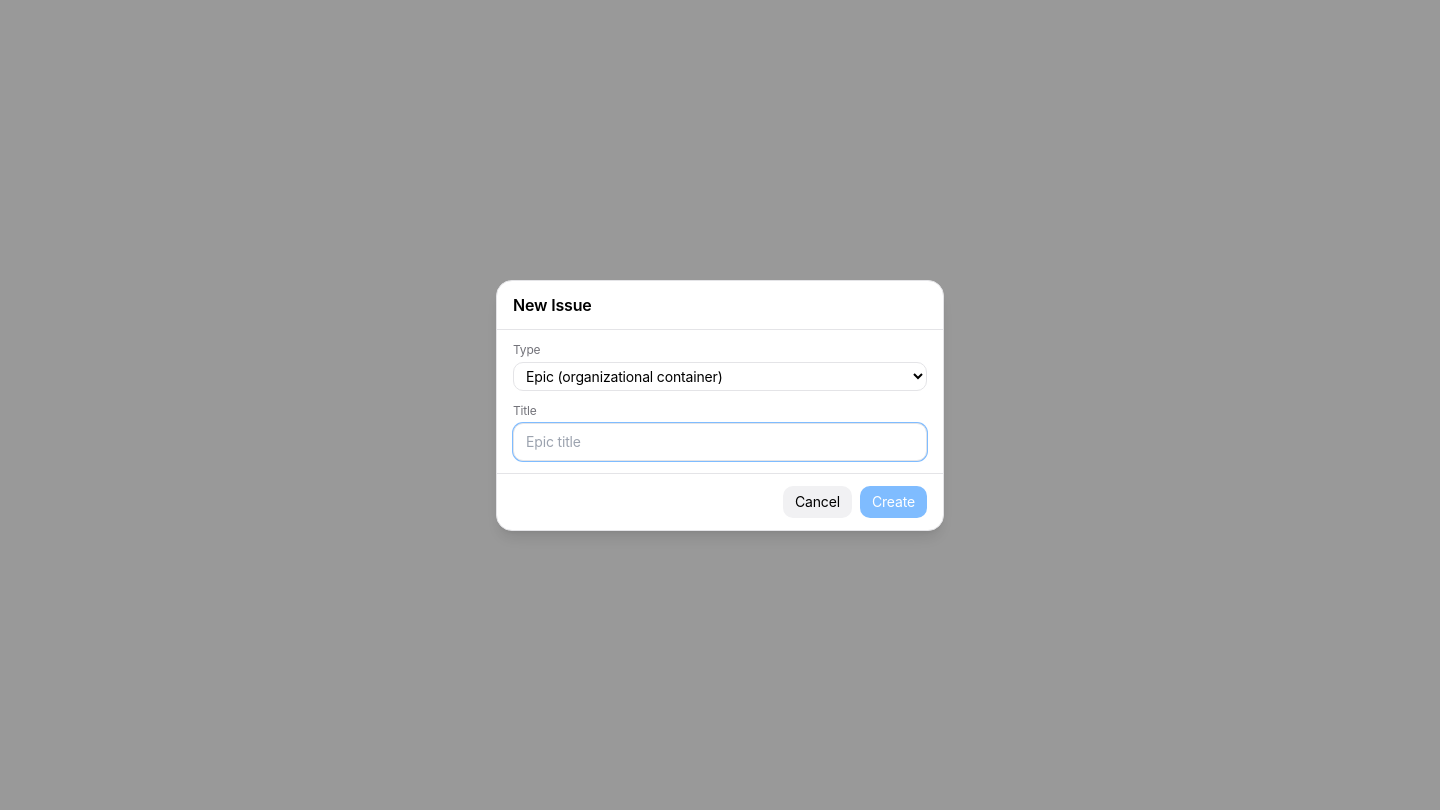
Scenario: NewIssueDialog › shows error and stays open on failure
Type "F" into the field with placeholder "Epic title" at (720, 442), box [513,422,927,460]
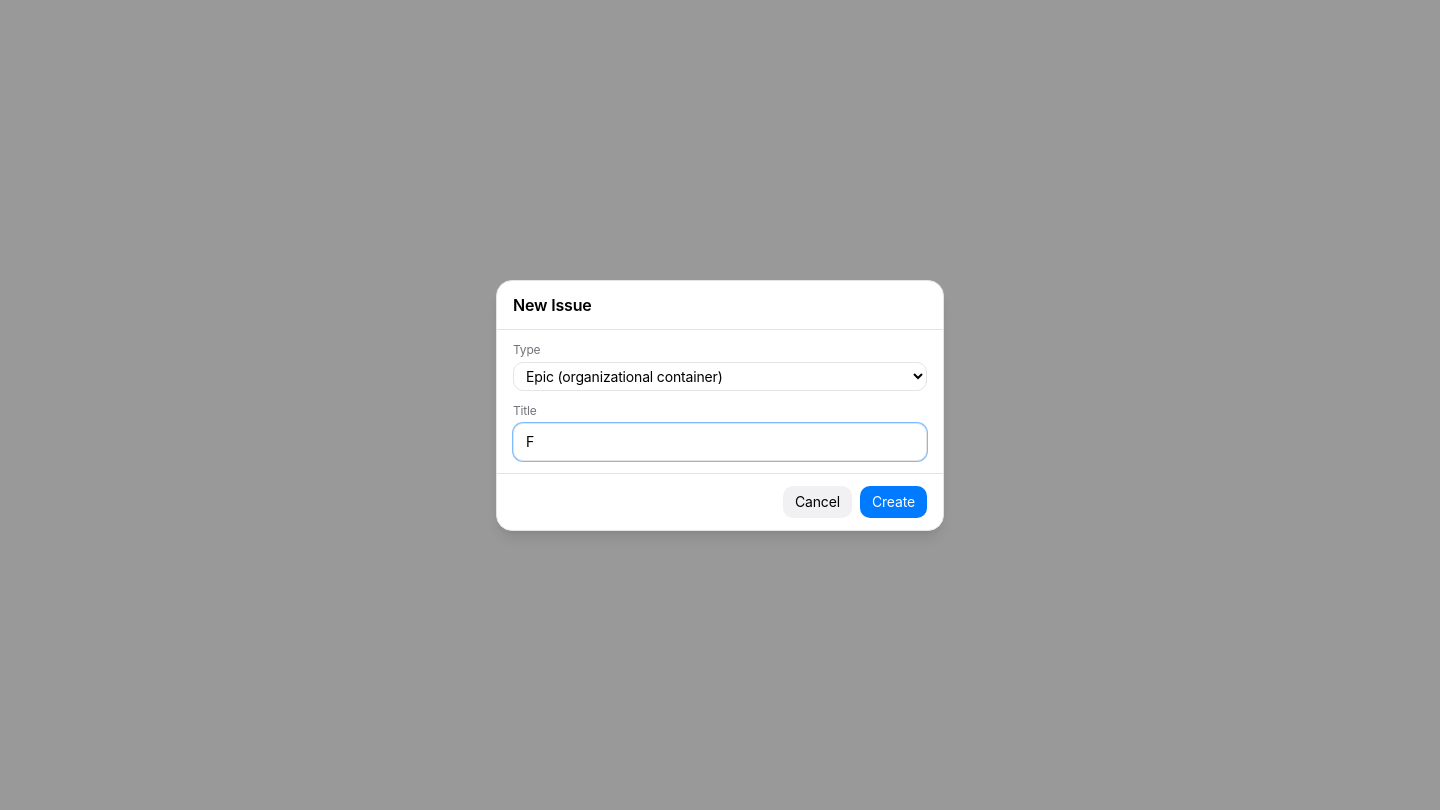
Click the button "Create" at (893, 502), box [860,486,927,518]
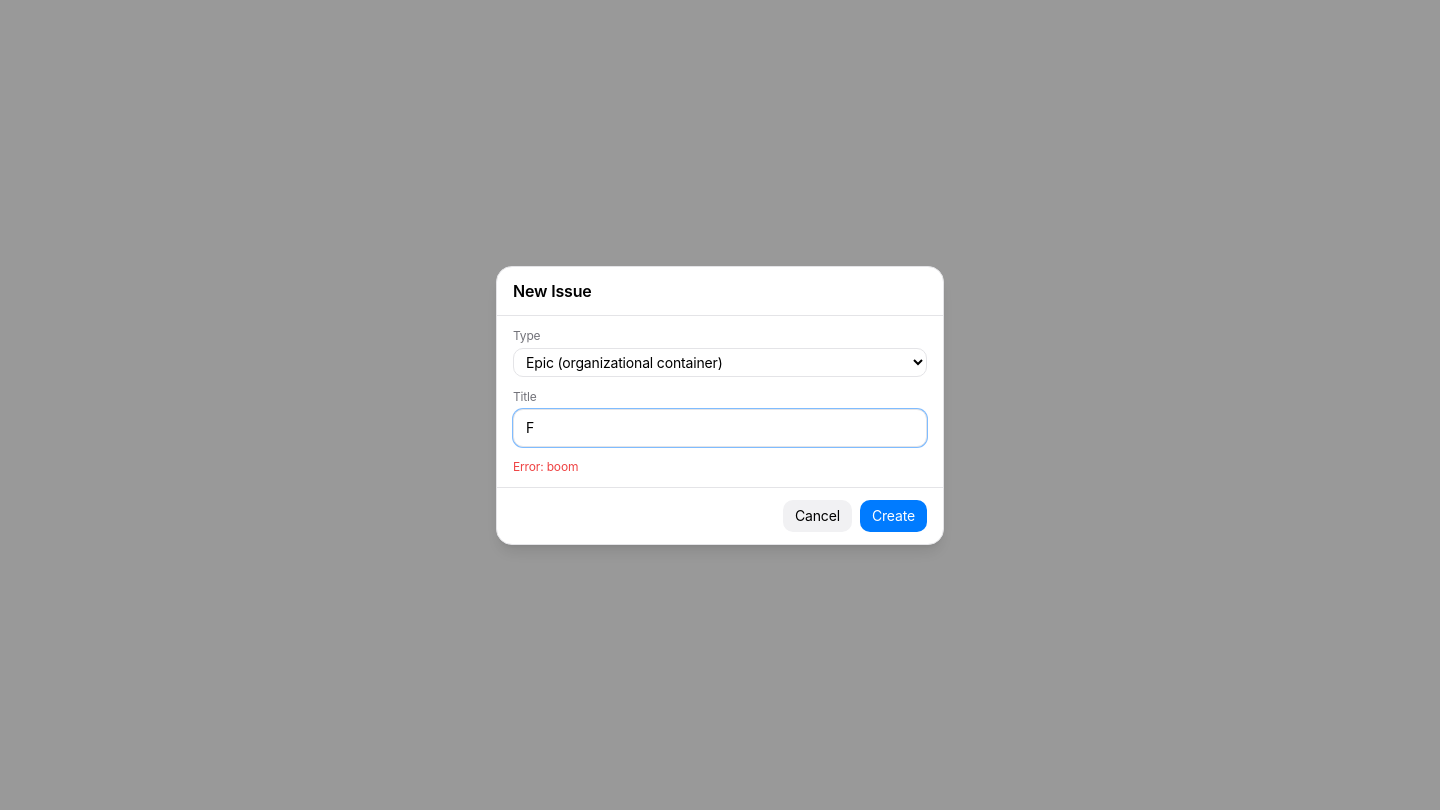
Expected: the text "Error: boom" is shown, [513,458,578,474]
